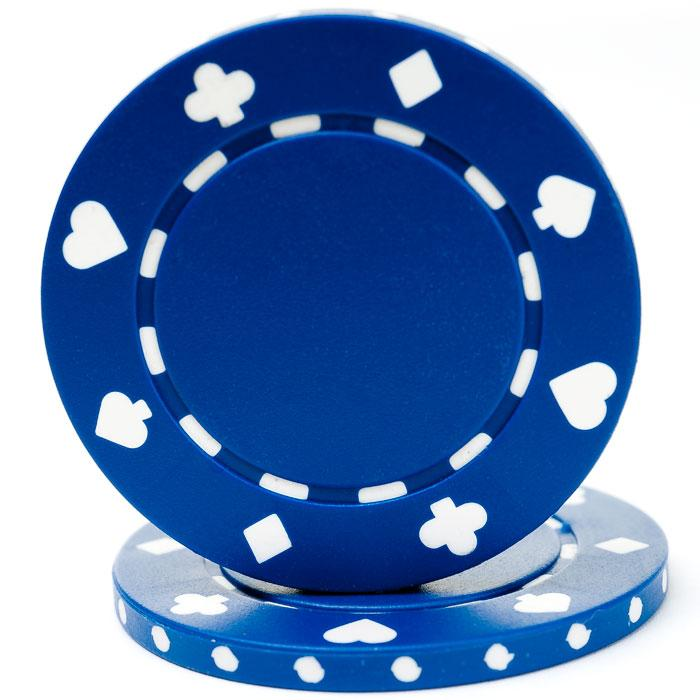chip-blue: (44, 14, 640, 591), (113, 488, 667, 691)
